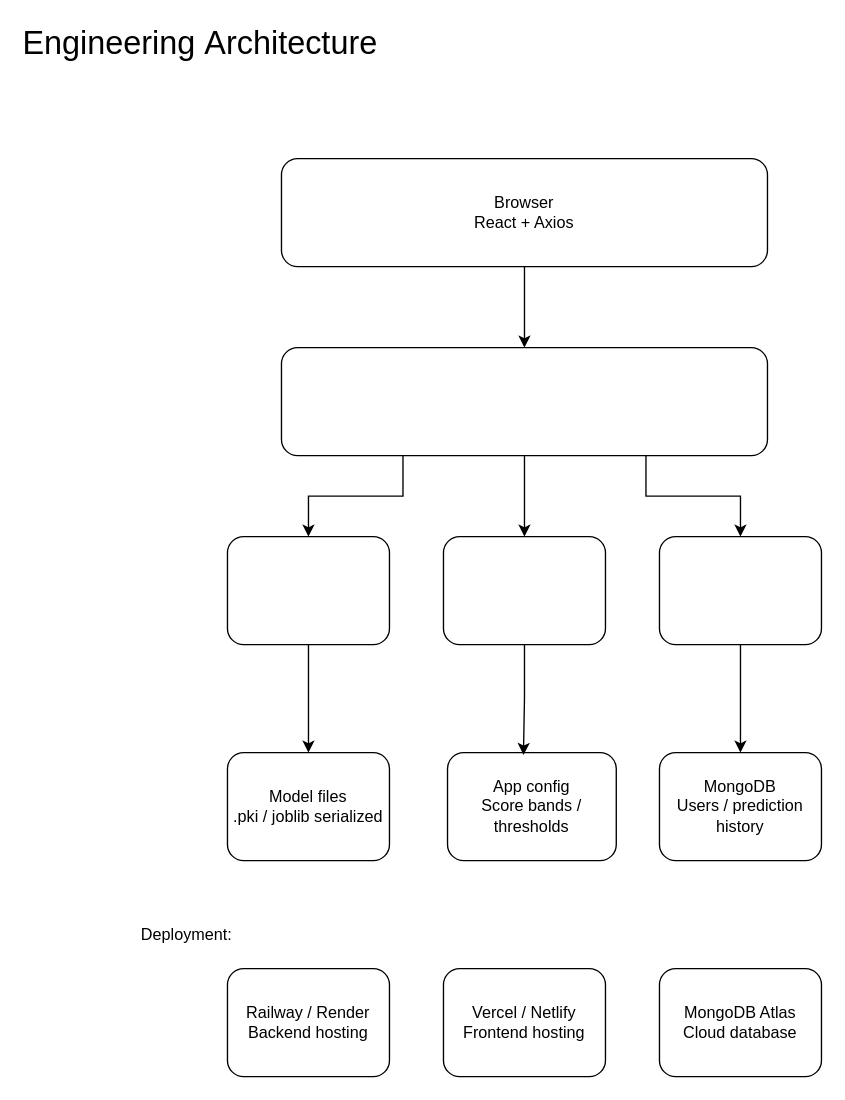
Some shapes in this 845 by 1100 pixel diagram are drawn without their labels. The shapes that lost their labels are listed below. From the top down, each one's centre as x and y in pixels, then its label:
(x=523, y=401): Flask REST API Routes / JWT auth / request validation / response serialization
(x=307, y=590): ML inference XGBoost / LightGBM
(x=523, y=590): Business logic Scoring rules / risk tiers
(x=739, y=590): Data access Mongo + Pandas processing
